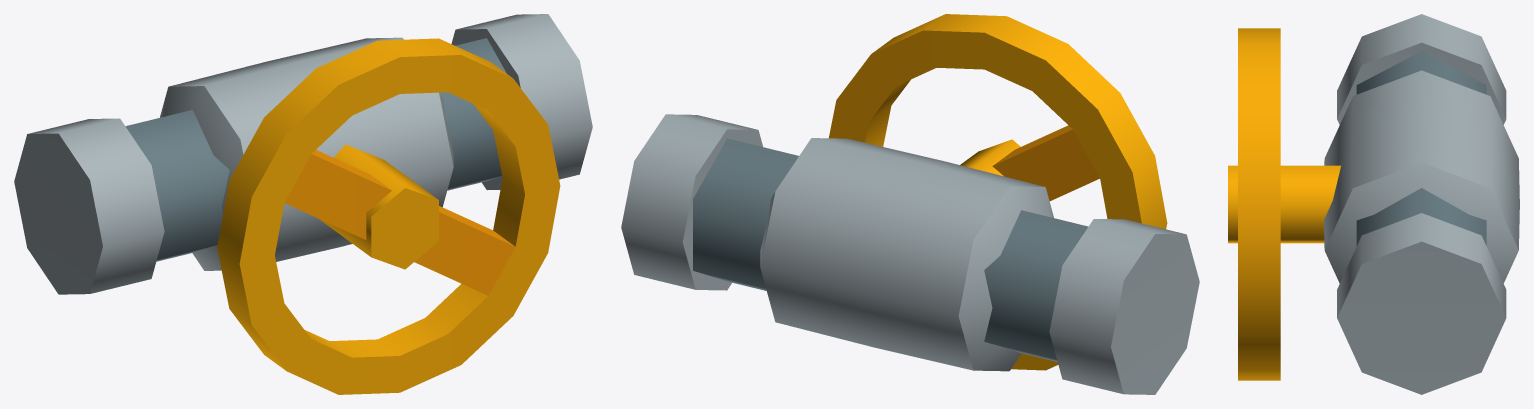
File: Pipe_009.fbx
3 views of the same model, side by side, from view 1: azimuth 30°, elevation 25°; view 2: azimuth 150°, elevation 25°; view 3: azimuth 270°, elevation 25° (orthographic). The views are drawn at different scales.
Parts seen in each view (by area): view 1: Pipe_009; view 2: Pipe_009; view 3: Pipe_009.
Boxes of the visible parts, <box> form: Pipe_009: <box>14,14,592,394</box>; Pipe_009: <box>621,14,1199,394</box>; Pipe_009: <box>1228,14,1519,394</box>.
Size of the model in its own units: 61.81 by 33.51 by 40.48.
